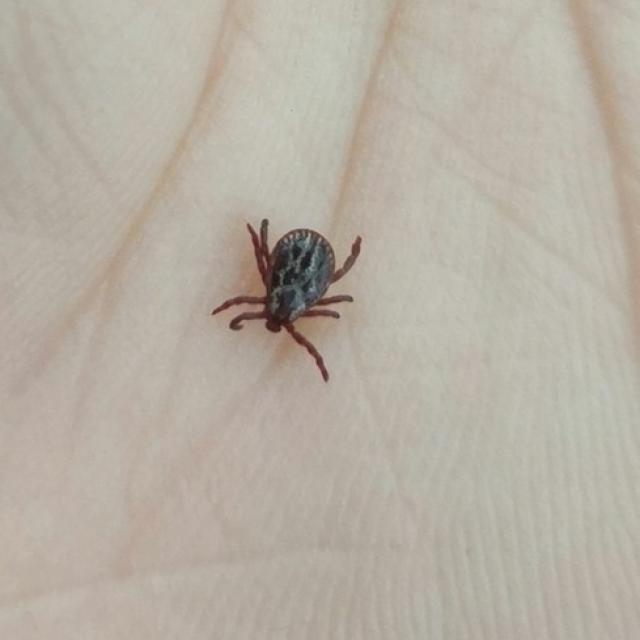Dermacentor Reticulatus-M: (211, 219, 361, 381)
